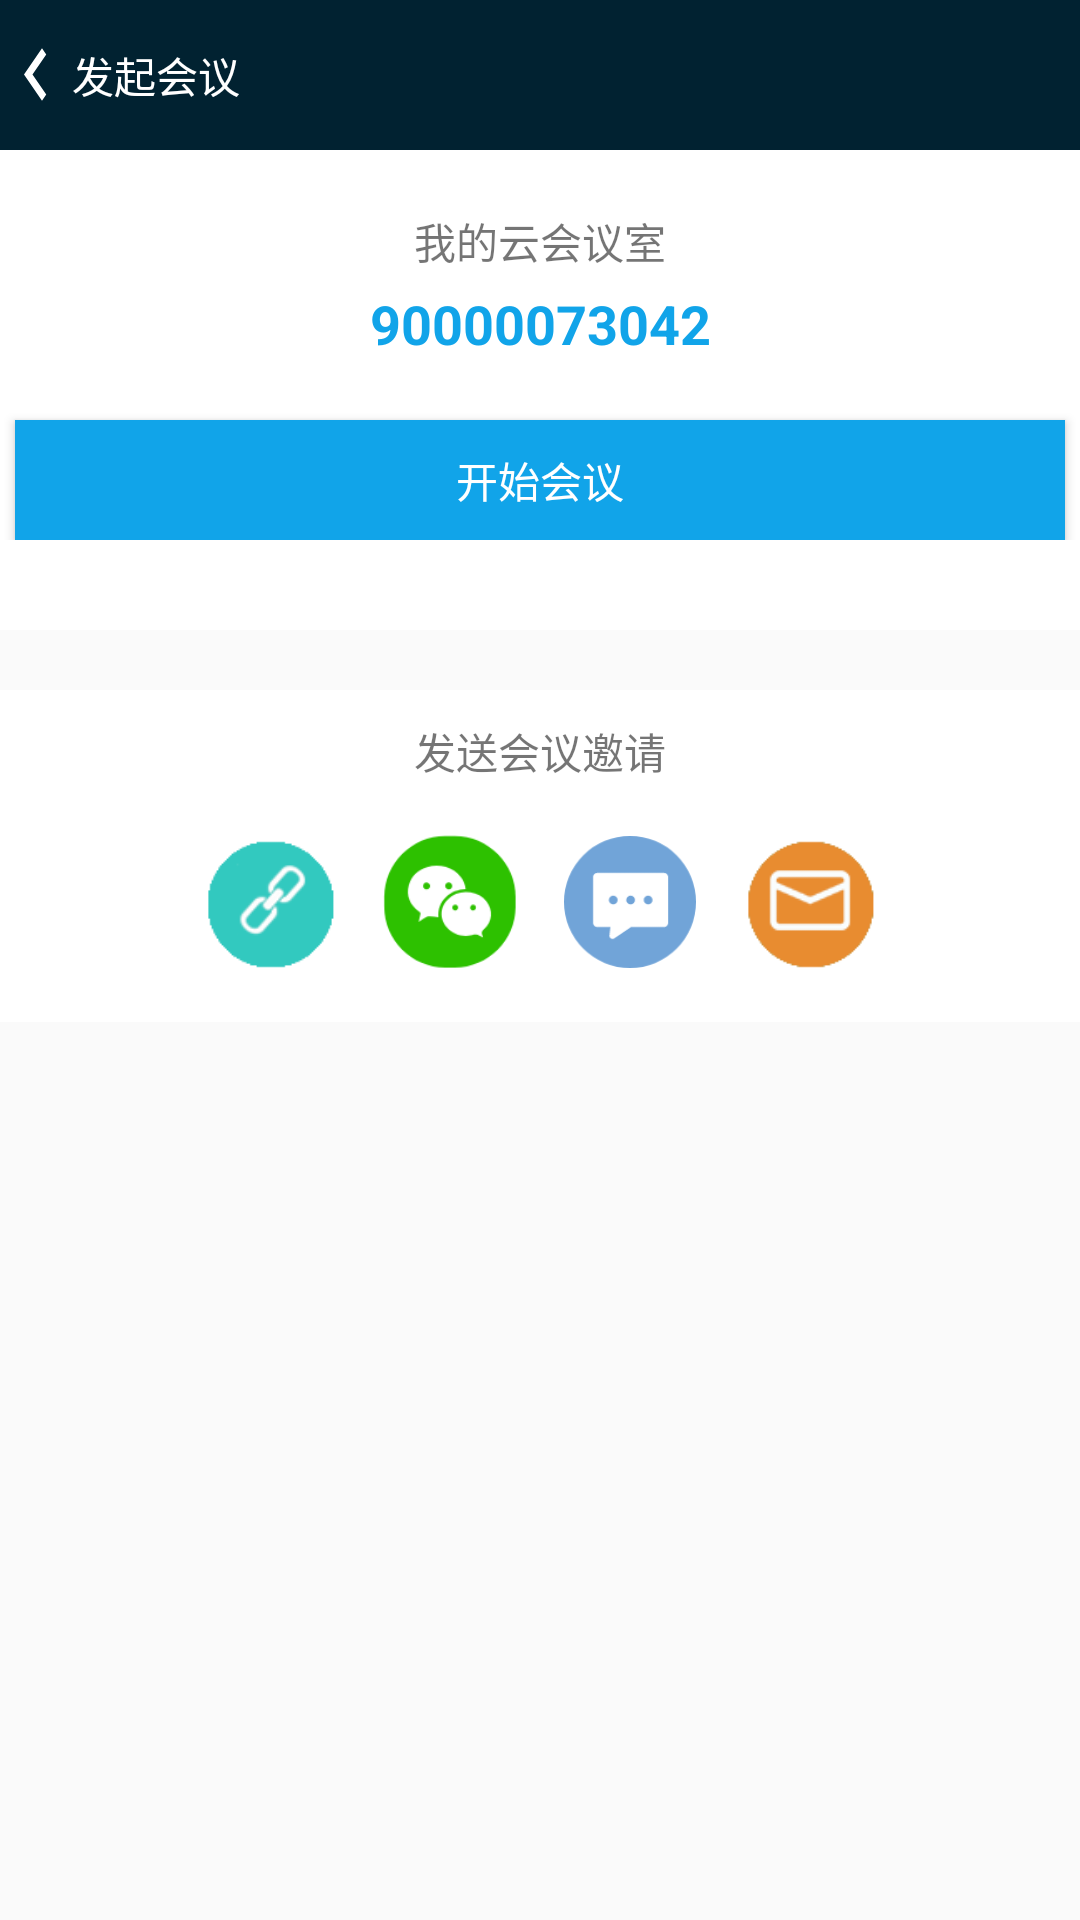

Screen size 1080 × 1920. Icon name, then its box in pixels as (x1, y1, x2, y2):
chevron left: (24, 48, 46, 101)
email: (748, 841, 874, 968)
